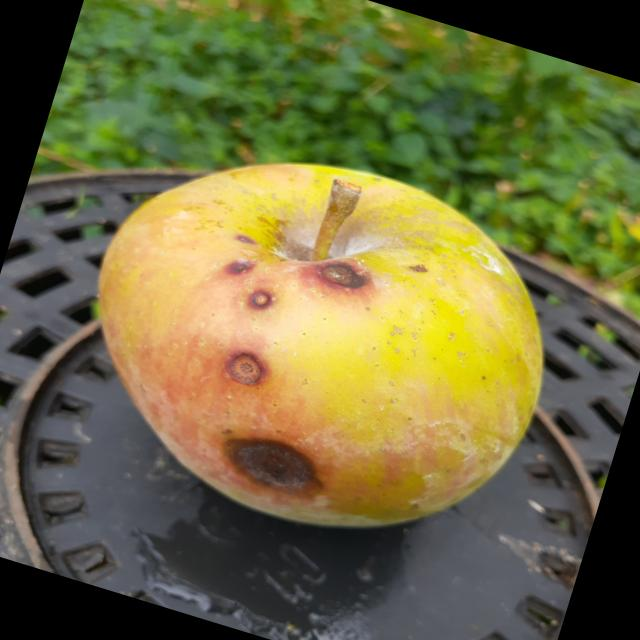rotten: (20, 89, 606, 599)
